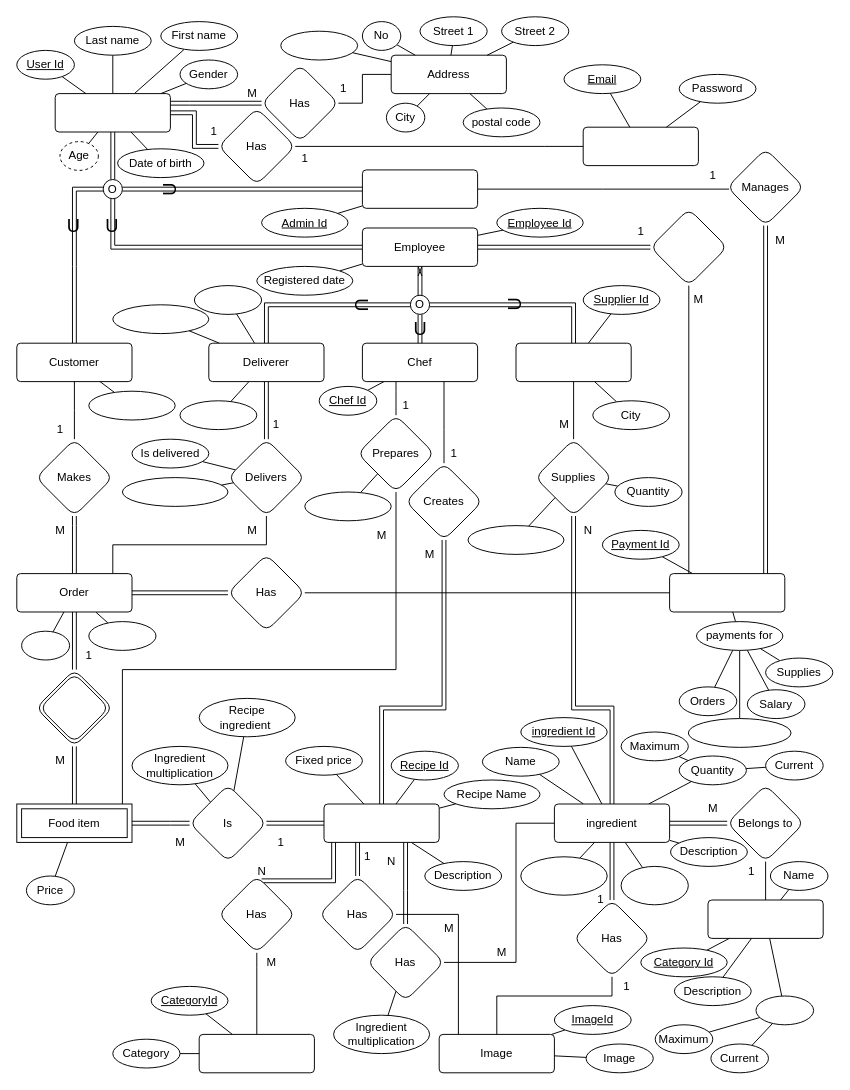
The diagram is 850 pixels wide and 1090 high, and some of its shapes have lost their labels. Each missing label, with the centre of its shape:
Account: point 640,146
AddressId: point 319,45
Admin: point 419,188
Contains: point 74,707
Customer Id: point 131,405
Date: point 45,645
Deliver address: point 174,491
Deliver Id: point 227,299
Food Category: point 256,1053
Gets: point 688,247
ingredient Category: point 765,918
Is processed: point 347,506
License No: point 218,415
Order Id: point 122,635
Payments: point 727,592
Price per multiplication: point 563,875
Quantity per unit: point 654,885
Recipe: point 381,822
Space: point 784,1010
Supplied date: point 515,539
Supplier: point 573,362
Type of vehicle: point 160,319
User: point 112,112
utilities and maintenance: point 739,732
